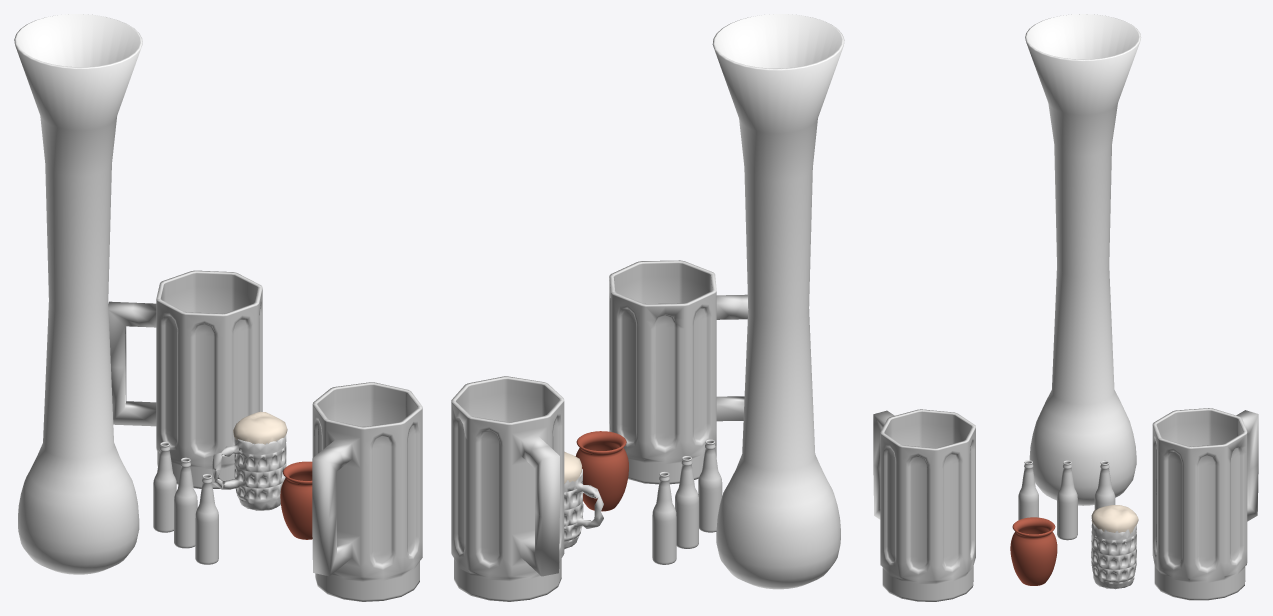
The model's file is menu5.glb.
3 renders of one model, left to right at view 1: azimuth 30°, elevation 25°; view 2: azimuth 150°, elevation 25°; view 3: azimuth 270°, elevation 25°, orthographic. The views are drawn at different scales.
Visible parts, largest first — view 1: yarda, tarro1, tarro2, Circle003_2, cantarito, botella_vidrio1, botella_vidrio3, botella_vidrio2, Circle003_1; view 2: yarda, tarro2, tarro1, cantarito, botella_vidrio2, botella_vidrio3, Circle003_2, botella_vidrio1; view 3: yarda, tarro2, tarro1, cantarito, Circle003_2, botella_vidrio3, Circle003_1, botella_vidrio1, botella_vidrio2.
Boxes of the visible parts, x1,y1,x2,y2 form: yarda: (14, 14, 142, 574); tarro1: (312, 382, 422, 601); tarro2: (108, 270, 262, 488); Circle003_2: (211, 434, 286, 510); cantarito: (280, 461, 312, 539); botella_vidrio1: (195, 474, 218, 564); botella_vidrio3: (174, 457, 197, 548); botella_vidrio2: (153, 442, 176, 532); Circle003_1: (233, 411, 287, 444); yarda: (712, 14, 844, 589); tarro2: (451, 376, 564, 601); tarro1: (609, 260, 748, 484); cantarito: (575, 431, 628, 511); botella_vidrio2: (652, 471, 676, 564); botella_vidrio3: (675, 456, 698, 548); Circle003_2: (564, 469, 603, 549); botella_vidrio1: (698, 439, 722, 532); yarda: (1025, 14, 1141, 505); tarro2: (1152, 408, 1258, 600); tarro1: (873, 409, 975, 601); cantarito: (1010, 517, 1057, 585); Circle003_2: (1091, 520, 1136, 589); botella_vidrio3: (1057, 460, 1077, 540); Circle003_1: (1091, 505, 1138, 533); botella_vidrio1: (1018, 460, 1038, 520); botella_vidrio2: (1094, 460, 1115, 509).
Size of the model in its own units: 0.941 by 1.55 by 1.18.
